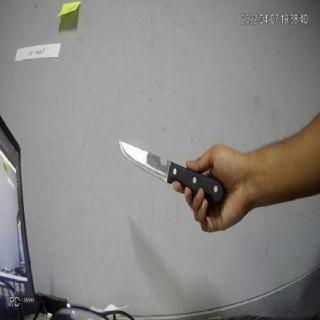knife: (117, 133, 226, 211)
